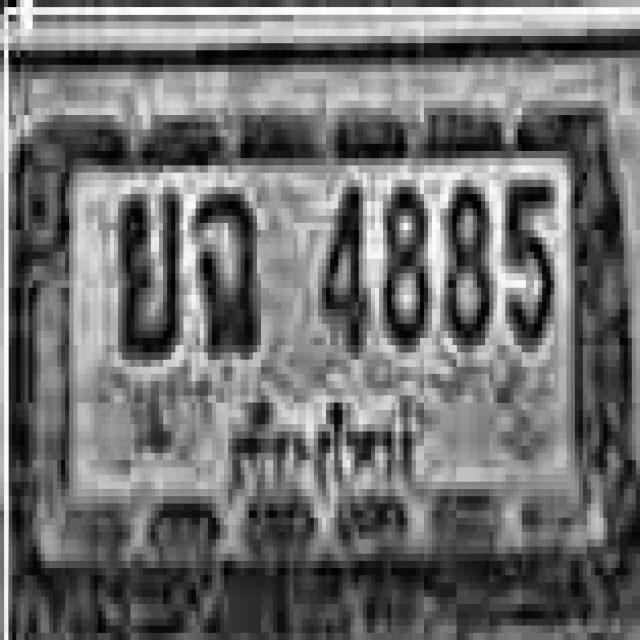license-plate: (26, 120, 623, 576)
